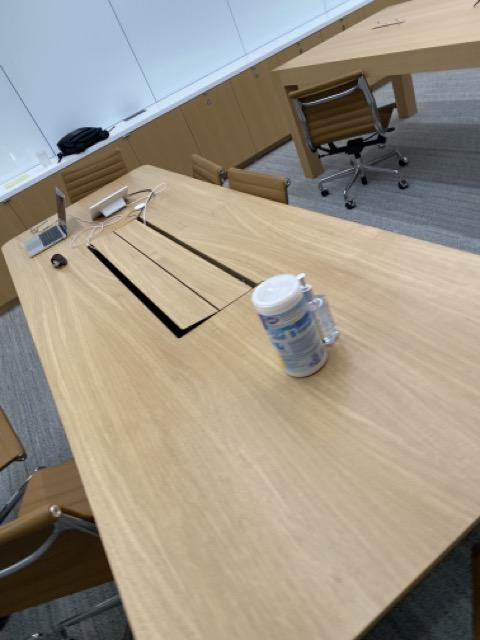Sunglasses: (50, 250, 68, 272)
